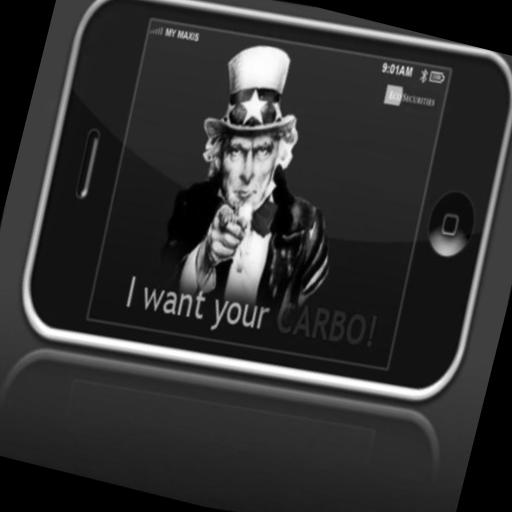phone: (15, 0, 512, 408)
